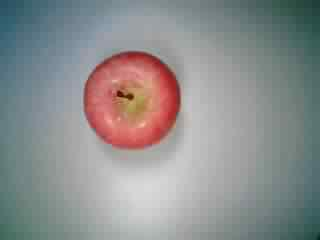apple: (81, 50, 186, 152)
